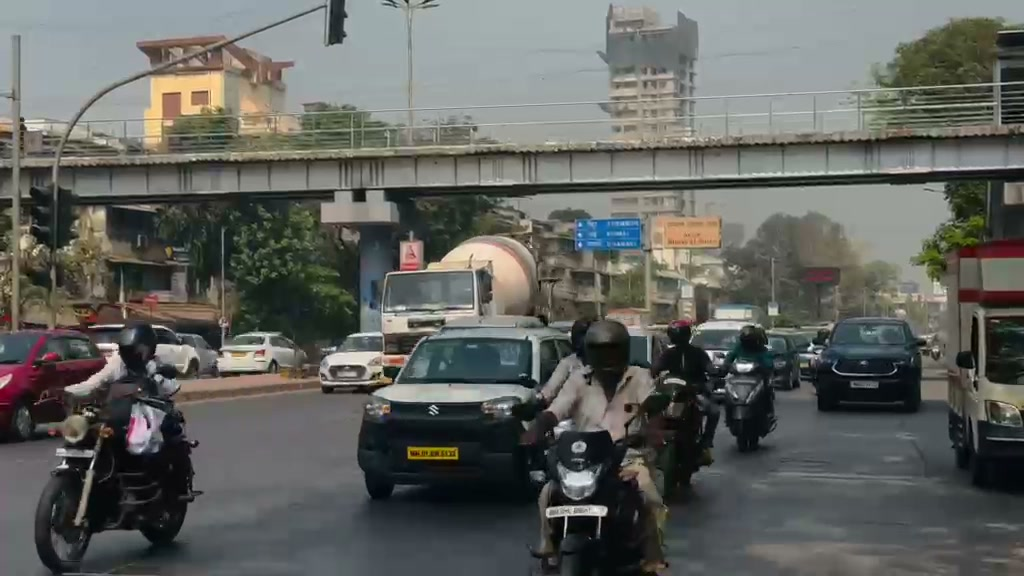bus: (945, 239, 1024, 485)
car: (355, 320, 575, 502), (0, 330, 111, 442), (813, 316, 924, 414), (85, 323, 199, 379), (319, 332, 387, 393), (217, 332, 309, 376), (690, 321, 744, 367), (176, 332, 220, 378), (768, 333, 802, 390)
motorcycle: (32, 382, 204, 572), (523, 426, 643, 573), (644, 373, 713, 499), (718, 356, 778, 452)
pedestrian: (520, 318, 671, 568), (61, 323, 182, 513), (650, 317, 715, 455), (719, 324, 776, 430)
truck: (380, 233, 542, 378), (944, 240, 1024, 487), (379, 268, 491, 378)
